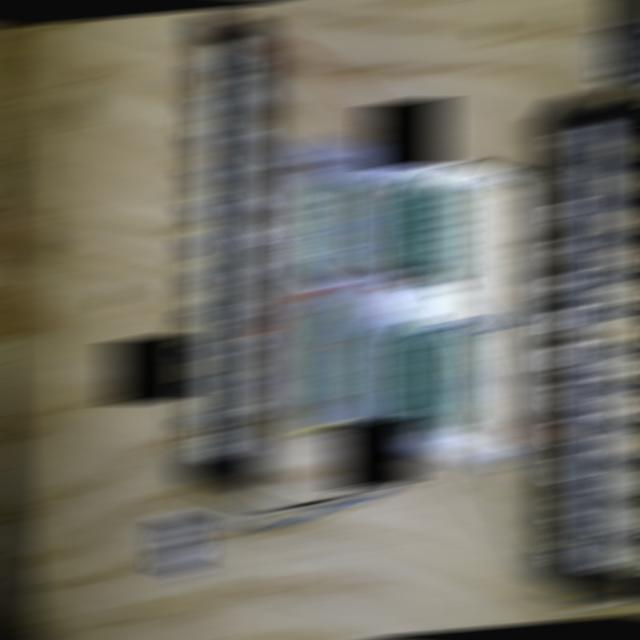Flathead_Block: (178, 13, 270, 488)
Phillips_Block: (555, 94, 640, 598)
Terminal_1: (309, 176, 349, 270), (310, 304, 347, 399)
Terminal_2: (372, 319, 409, 410), (403, 179, 440, 270), (402, 326, 439, 416), (434, 331, 470, 423), (374, 175, 411, 264)
